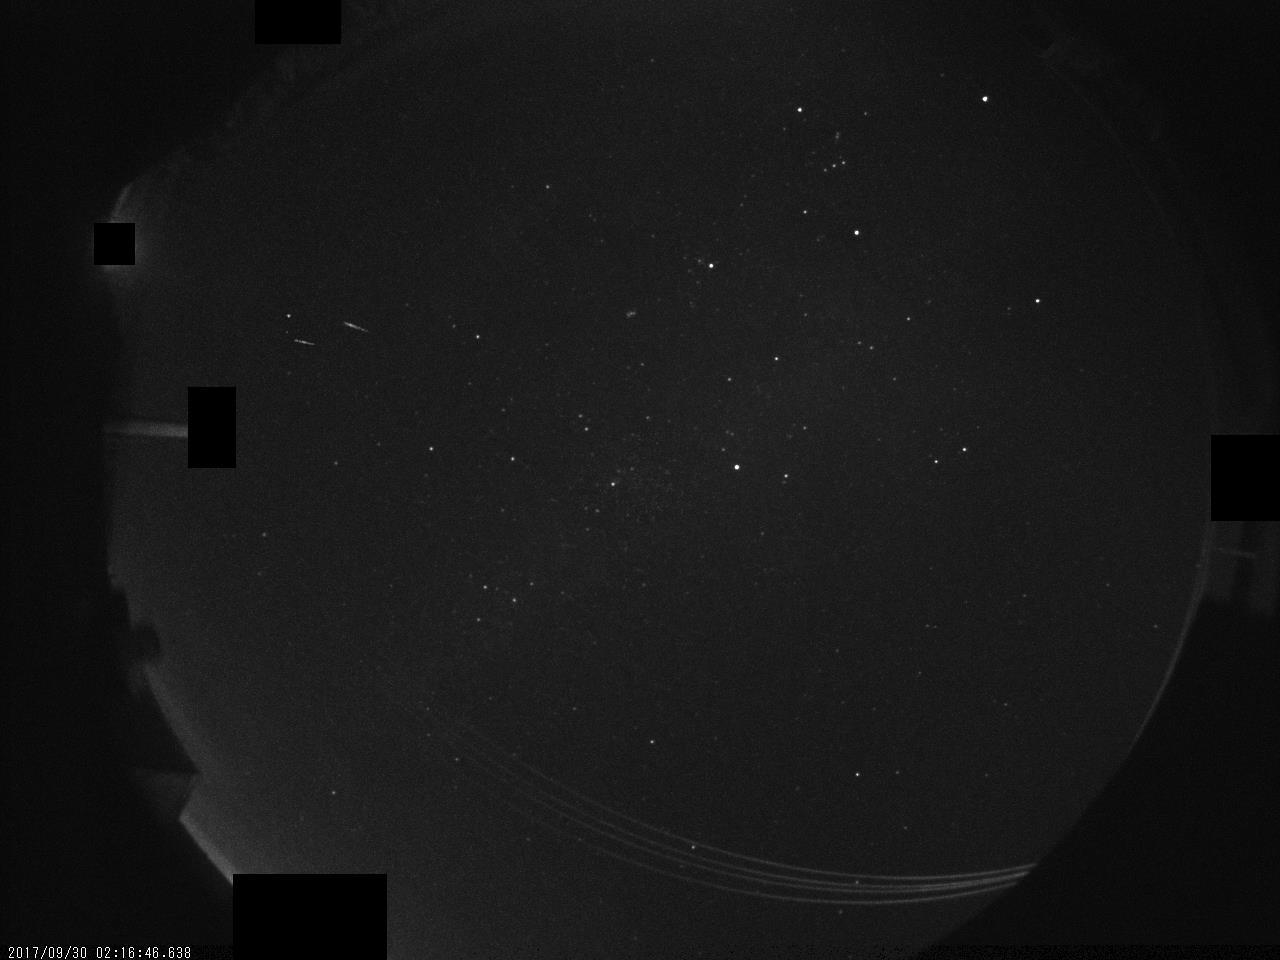TLE: (280, 299, 321, 358)
